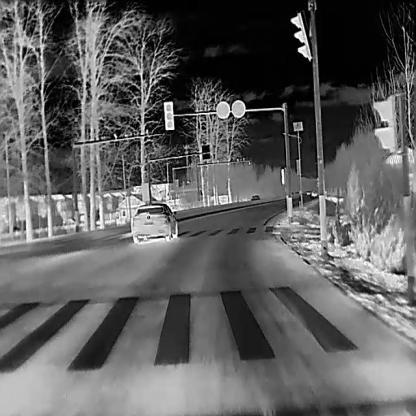car: (130, 202, 177, 244), (250, 193, 260, 201), (311, 190, 317, 196)
